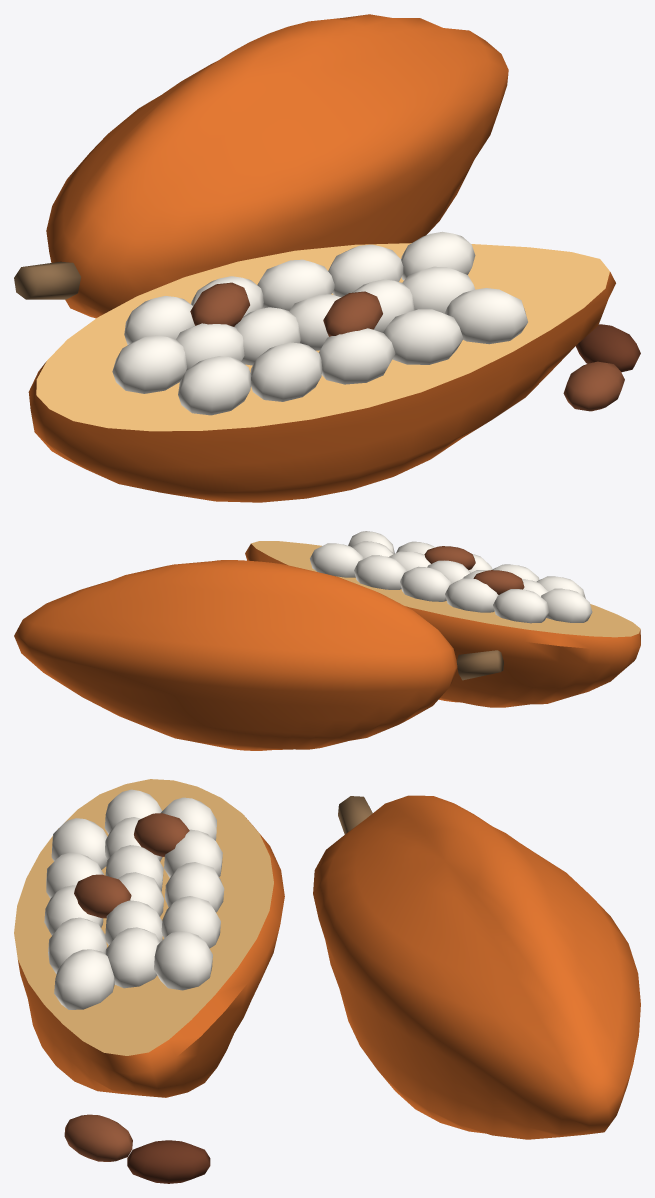
Rendered from cacau.glb.
3 renders of one model, top to bottom at view 1: azimuth 30°, elevation 25°; view 2: azimuth 150°, elevation 25°; view 3: azimuth 270°, elevation 25°, orthographic. The views are drawn at different scales.
Visible parts, largest first — view 1: cacau; view 2: cacau; view 3: cacau.
Boxes of the visible parts, left/top/right/bottom form: cacau: left=14, top=14, right=640, bottom=502; cacau: left=14, top=531, right=640, bottom=750; cacau: left=14, top=779, right=640, bottom=1183.
Size of the model in its own units: 0.2836 by 0.1058 by 0.2237.
